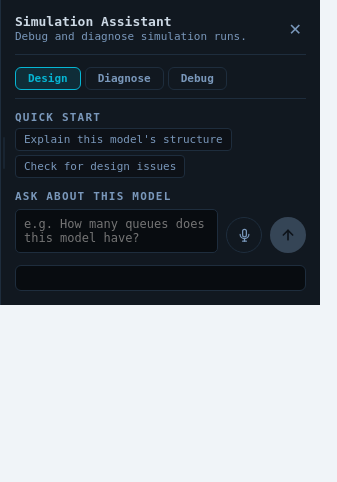
Test: Run assistant layout › shows diagnosis findings and keeps the mode controls available
This screenshot has width=337, height=482.
Click the button "Diagnose" at (124, 79), box x1=85 y1=67 x2=164 y2=90
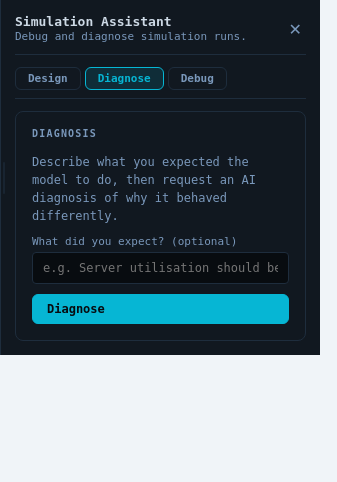
Click the button "Diagnose" below "What did you expect? (optional)" at (160, 309), box x1=32 y1=294 x2=289 y2=324
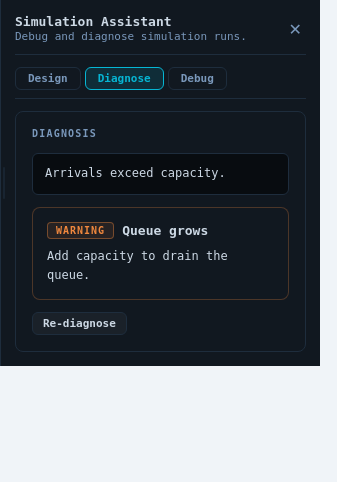
expect the text "Queue grows" is shown: met, box x1=122 y1=223 x2=208 y2=238
expect the button "Re-diagnose" is shown: met, box x1=32 y1=312 x2=127 y2=335
Click the button "Debug" at (197, 79), box x1=168 y1=67 x2=227 y2=90
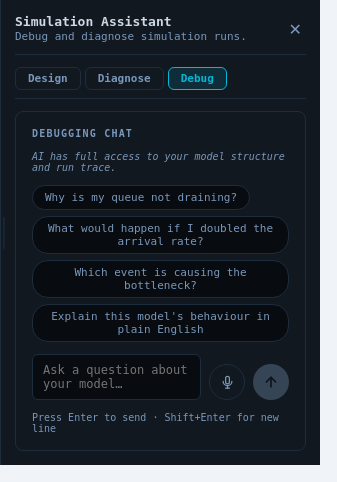
expect the text "Debugging Chat" is shown: met, box x1=32 y1=128 x2=133 y2=139
